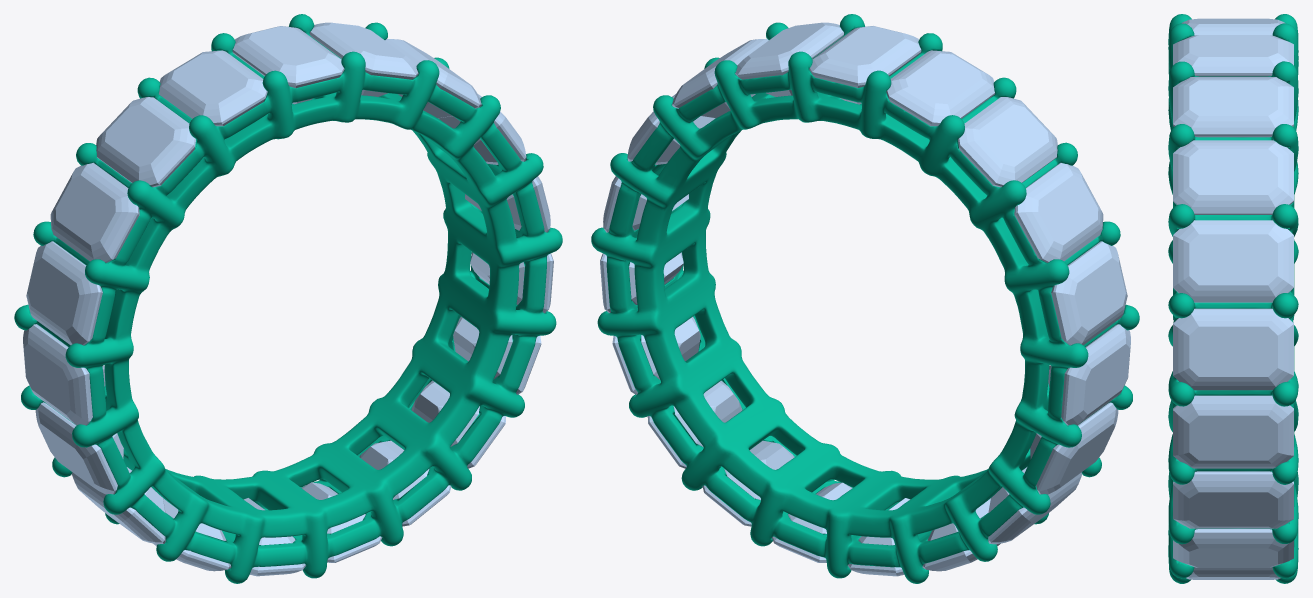
File: BE2DEM600ELC_RENDER.glb
The picture shows the model from 3 angles, left to right: view 1: azimuth 30°, elevation 25°; view 2: azimuth 150°, elevation 25°; view 3: azimuth 270°, elevation 25°; orthographic projection.
Parts seen in each view (by area): view 1: Metal03, Diamond_Emerald_Gem_BD.002, Diamond_Emerald_Gem_BD.003, Diamond_Emerald_Gem_BD.001, Diamond_Emerald_Gem_BD.004, Diamond_Emerald_Gem_BD, Diamond_Emerald_Gem_BD.005, Diamond_Emerald_Gem_BD.018, Diamond_Emerald_Gem_BD.006, Diamond_Emerald_Gem_BD.017, Diamond_Emerald_Gem_BD.007, Diamond_Emerald_Gem_BD.012 (+8 smaller); view 2: Metal03, Diamond_Emerald_Gem_BD.002, Diamond_Emerald_Gem_BD.003, Diamond_Emerald_Gem_BD.001, Diamond_Emerald_Gem_BD.004, Diamond_Emerald_Gem_BD, Diamond_Emerald_Gem_BD.005, Diamond_Emerald_Gem_BD.018, Diamond_Emerald_Gem_BD.006, Diamond_Emerald_Gem_BD.017, Diamond_Emerald_Gem_BD.007, Diamond_Emerald_Gem_BD.012 (+8 smaller); view 3: Metal03, Diamond_Emerald_Gem_BD.016, Diamond_Emerald_Gem_BD.015, Diamond_Emerald_Gem_BD.017, Diamond_Emerald_Gem_BD.014, Diamond_Emerald_Gem_BD.018, Diamond_Emerald_Gem_BD.013, Diamond_Emerald_Gem_BD, Diamond_Emerald_Gem_BD.012, Diamond_Emerald_Gem_BD.001, Diamond_Emerald_Gem_BD.011.
Boxes of the visible parts, x1,y1,x2,y2 form: Metal03: (14, 14, 562, 583); Diamond_Emerald_Gem_BD.002: (96, 97, 195, 187); Diamond_Emerald_Gem_BD.003: (50, 162, 139, 262); Diamond_Emerald_Gem_BD.001: (159, 50, 267, 126); Diamond_Emerald_Gem_BD.004: (26, 241, 102, 345); Diamond_Emerald_Gem_BD: (232, 26, 344, 104); Diamond_Emerald_Gem_BD.005: (23, 324, 105, 425); Diamond_Emerald_Gem_BD.018: (309, 22, 418, 96); Diamond_Emerald_Gem_BD.006: (35, 402, 123, 494); Diamond_Emerald_Gem_BD.017: (385, 39, 481, 118); Diamond_Emerald_Gem_BD.007: (72, 467, 165, 544); Diamond_Emerald_Gem_BD.012: (411, 380, 505, 468); Metal03: (591, 14, 1139, 583); Diamond_Emerald_Gem_BD.002: (958, 97, 1057, 187); Diamond_Emerald_Gem_BD.003: (1014, 162, 1103, 262); Diamond_Emerald_Gem_BD.001: (886, 50, 994, 126); Diamond_Emerald_Gem_BD.004: (1051, 241, 1127, 345); Diamond_Emerald_Gem_BD: (809, 26, 921, 104); Diamond_Emerald_Gem_BD.005: (1048, 324, 1130, 425); Diamond_Emerald_Gem_BD.018: (735, 22, 843, 96); Diamond_Emerald_Gem_BD.006: (1030, 402, 1118, 494); Diamond_Emerald_Gem_BD.017: (672, 39, 768, 118); Diamond_Emerald_Gem_BD.007: (988, 467, 1081, 544); Diamond_Emerald_Gem_BD.012: (647, 380, 742, 468); Metal03: (1168, 14, 1298, 583); Diamond_Emerald_Gem_BD.016: (1173, 220, 1293, 302); Diamond_Emerald_Gem_BD.015: (1173, 308, 1293, 390); Diamond_Emerald_Gem_BD.017: (1173, 140, 1293, 214); Diamond_Emerald_Gem_BD.014: (1173, 395, 1293, 468); Diamond_Emerald_Gem_BD.018: (1173, 77, 1293, 137); Diamond_Emerald_Gem_BD.013: (1173, 471, 1293, 528); Diamond_Emerald_Gem_BD: (1173, 35, 1293, 76); Diamond_Emerald_Gem_BD.012: (1173, 529, 1293, 567); Diamond_Emerald_Gem_BD.001: (1181, 18, 1285, 35); Diamond_Emerald_Gem_BD.011: (1186, 567, 1280, 579).
Size of the model in its own units: 22.13 by 22.05 by 5.05.
